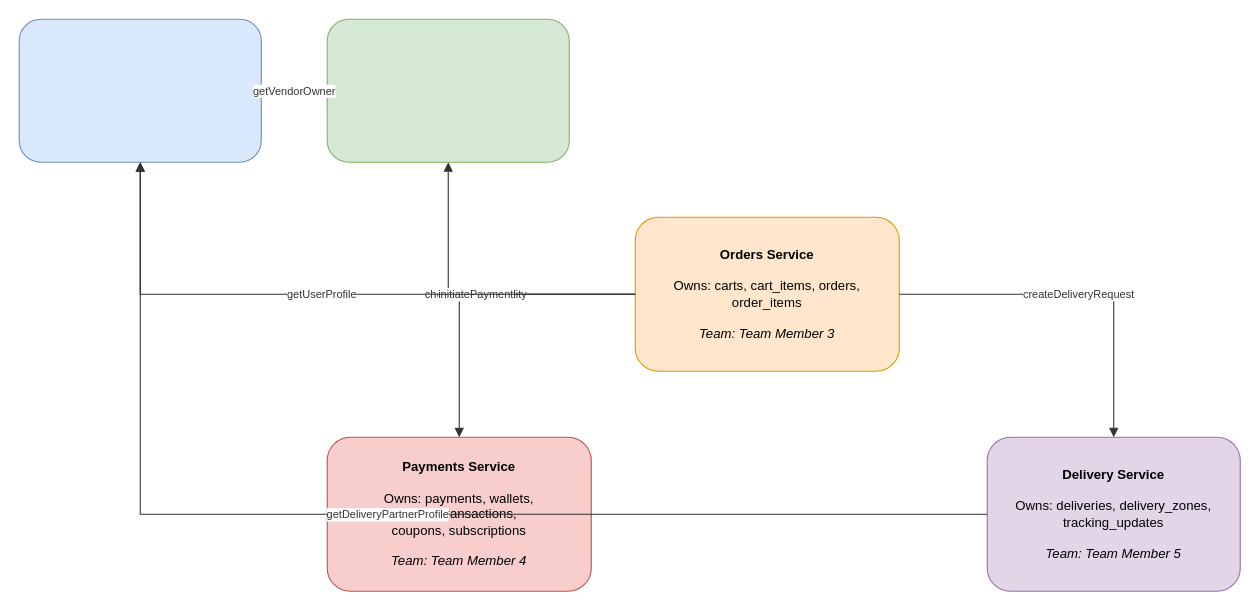
The diagram is 1260 pixels wide and 611 high, and some of its shapes have lost their labels. The centre of each missing label's shape, as x and y in pixels:
Catalogue Service Owns: vendors, menu_items, reviews Team: Team Member 2: point (447, 90)
Identity Service Owns: users Team: Team Member 1: point (139, 90)
